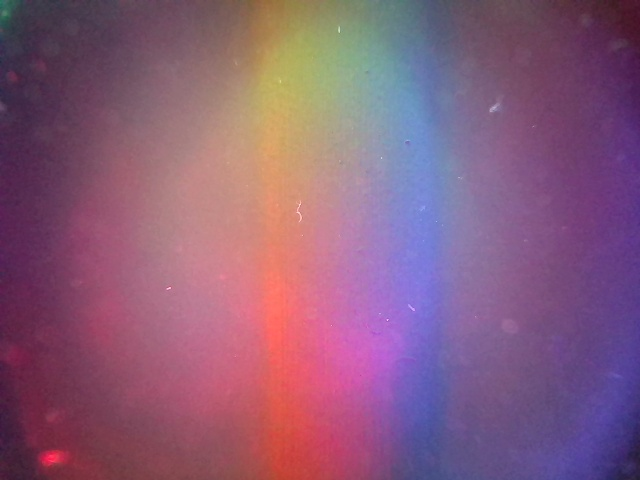contact: (257, 3, 447, 475)
